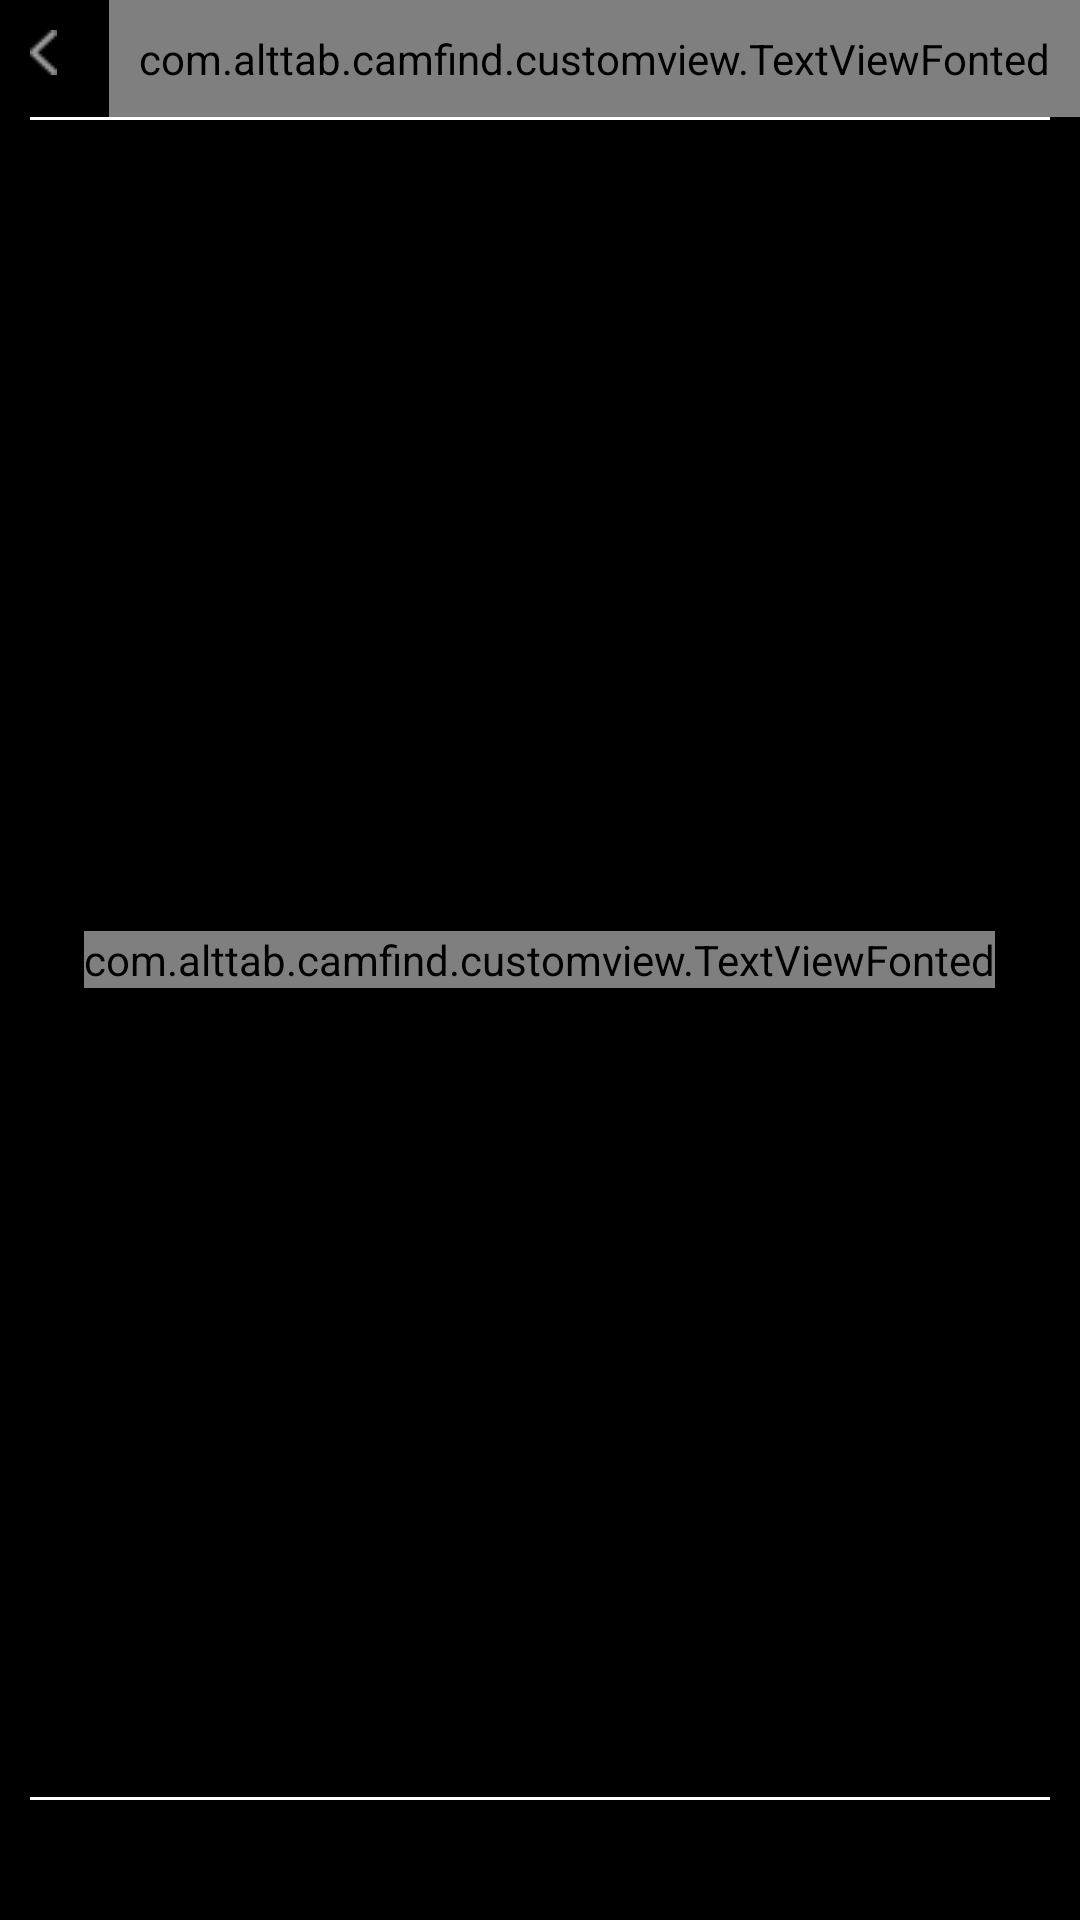

Named icons in this screenshot (1080 × 1920) and their bounding boxes, (x1, y1, x2, y2):
left arrow: (30, 30, 57, 75)
